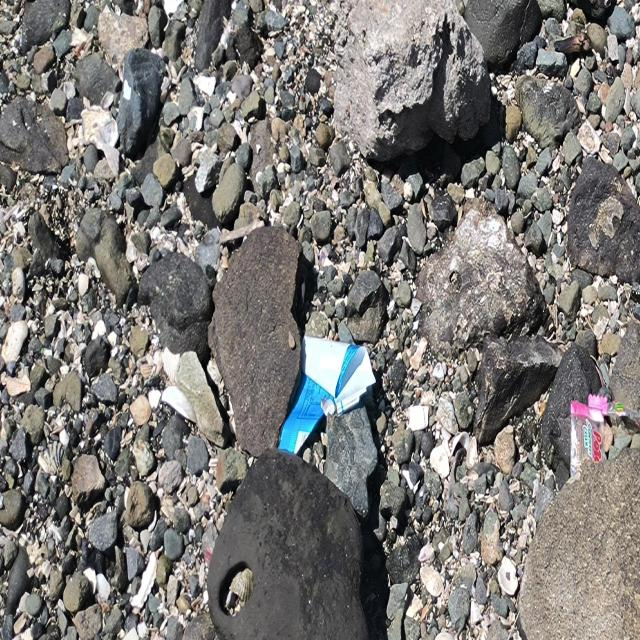plastic_waste: (279, 335, 378, 456), (571, 393, 628, 479)
